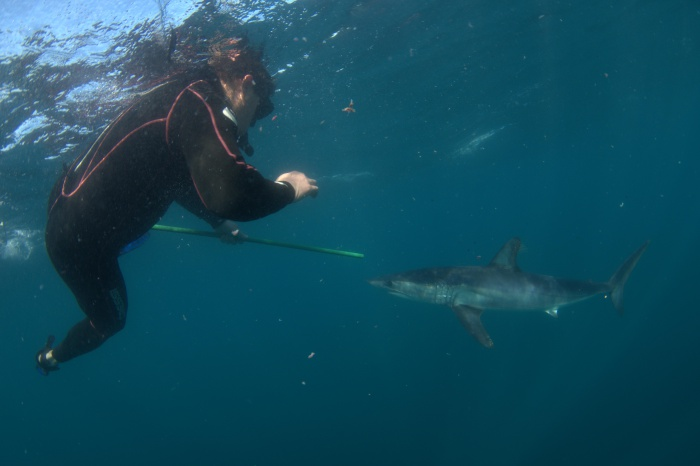Mako: (345, 227, 658, 358)
